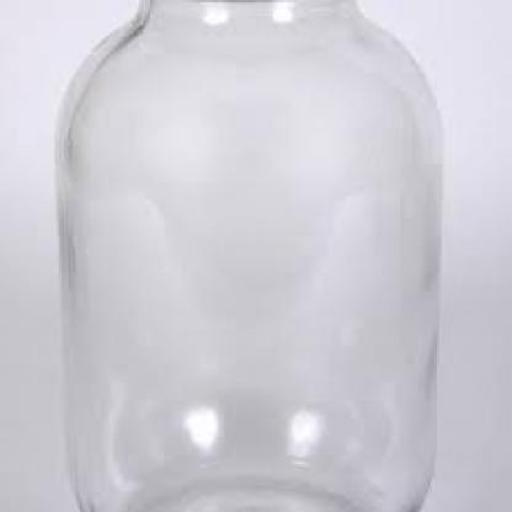glass: (55, 0, 439, 510)
